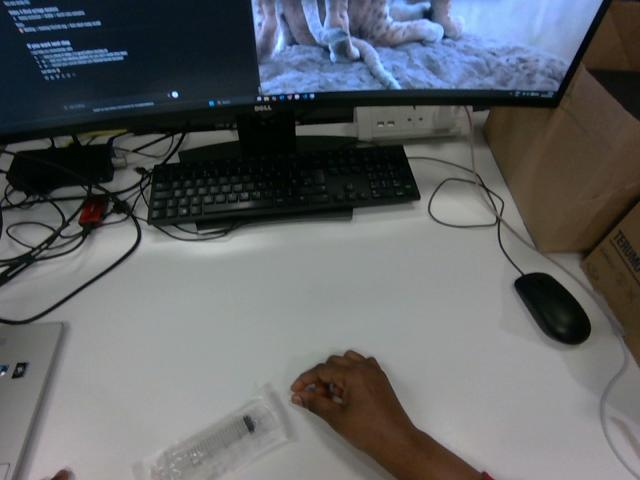syringe: (133, 387, 287, 479)
